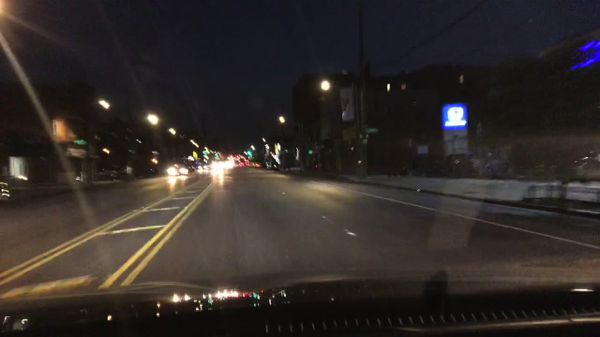car: (457, 150, 513, 179), (560, 152, 599, 184), (402, 152, 448, 176), (0, 175, 34, 206), (432, 154, 470, 176), (79, 165, 118, 182), (533, 157, 559, 179), (167, 155, 195, 175), (132, 161, 157, 179), (114, 166, 135, 177), (188, 157, 201, 172), (222, 157, 235, 169), (210, 158, 224, 169), (236, 156, 247, 165), (266, 162, 275, 169), (249, 162, 255, 167), (255, 164, 261, 169)
traffic light: (246, 151, 252, 158), (202, 151, 208, 156), (215, 152, 219, 159)
traffic sign: (73, 140, 87, 145), (364, 129, 378, 133)
